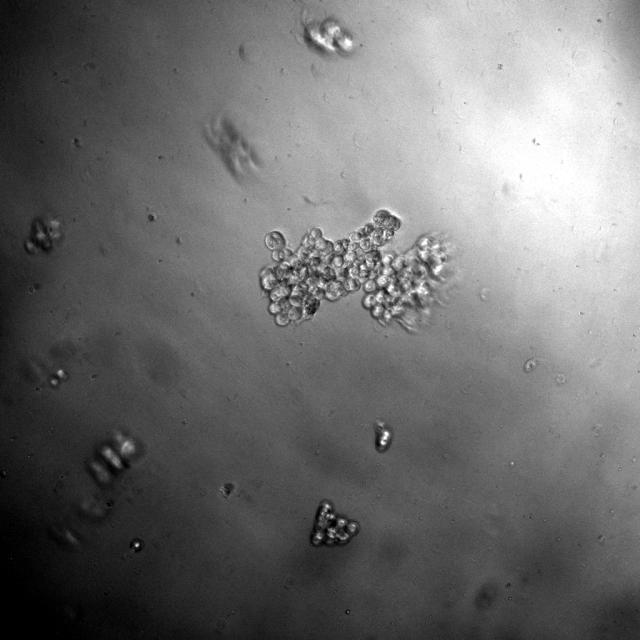organoid: (261, 209, 451, 329), (87, 433, 141, 486), (310, 501, 359, 546), (303, 16, 354, 55), (25, 218, 63, 252), (375, 421, 392, 452), (49, 369, 68, 386)
